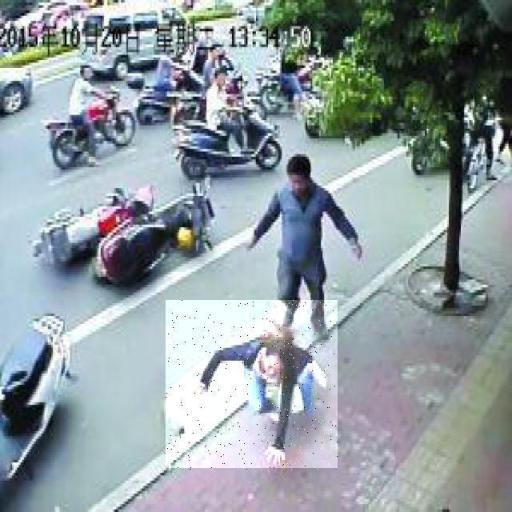Fall: (166, 301, 338, 470)
